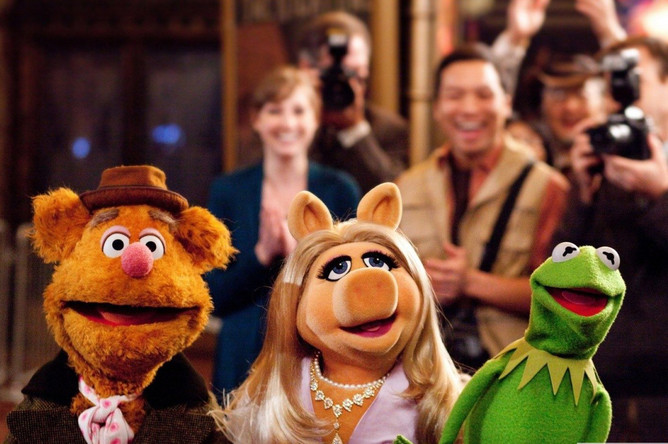kermit: (525, 239, 630, 363)
